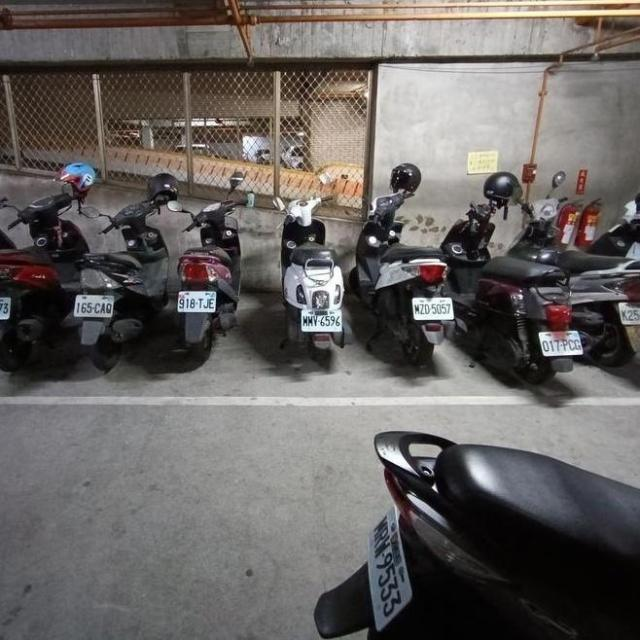W: (535, 323, 584, 361), (408, 291, 455, 325), (71, 289, 117, 321), (175, 286, 218, 315), (299, 306, 343, 334), (614, 295, 640, 328), (0, 290, 15, 323)
